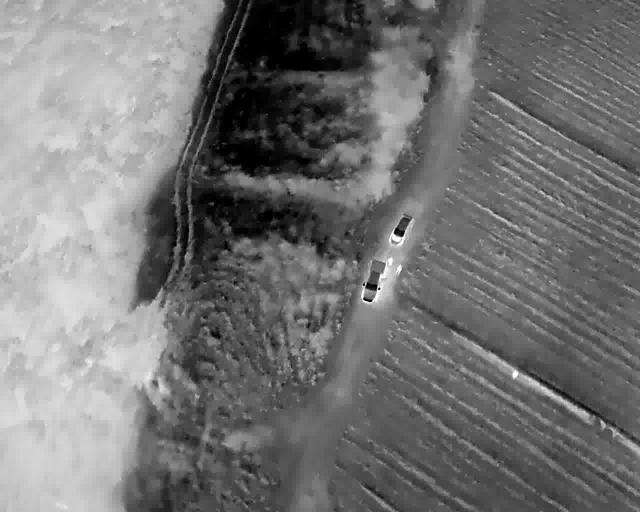car: (363, 259, 381, 303), (392, 212, 408, 249)
person: (512, 368, 519, 379), (395, 264, 402, 274), (387, 257, 392, 266)
